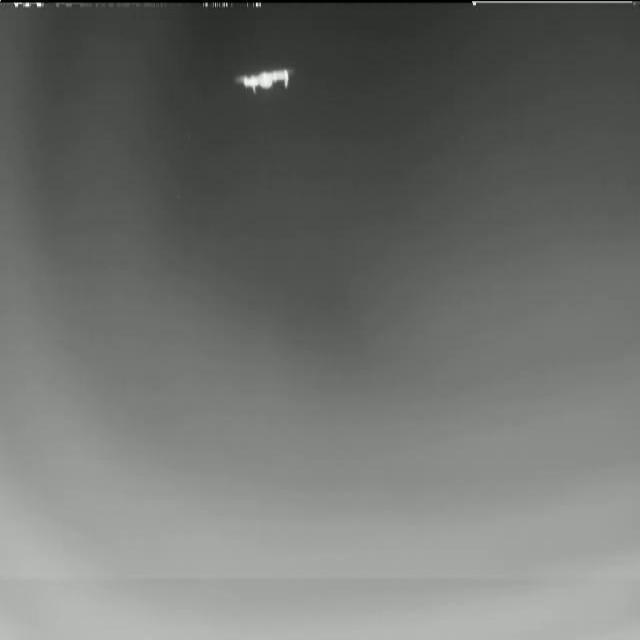DRONE: (230, 66, 301, 95)
